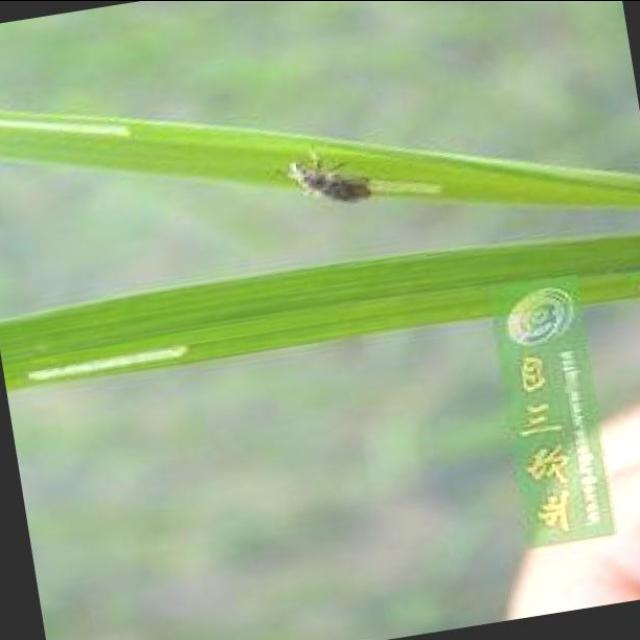ricebug: (288, 158, 371, 201)
